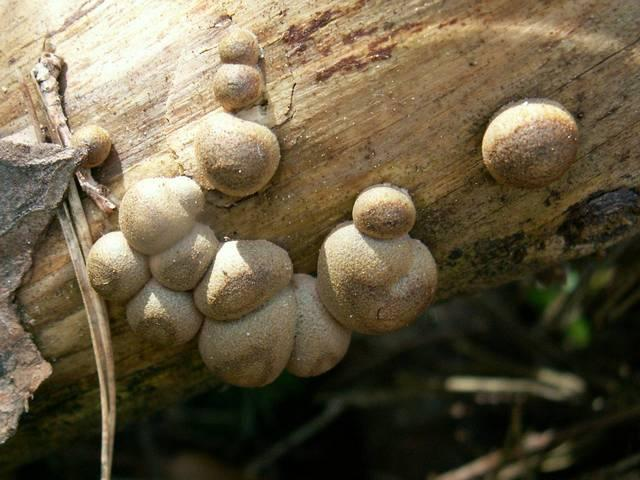Non-edible Mushroom: (83, 26, 439, 388), (315, 182, 438, 335), (480, 96, 579, 188), (193, 237, 293, 321), (191, 109, 281, 200), (117, 174, 205, 255), (85, 229, 149, 302), (351, 182, 416, 239), (212, 62, 263, 112), (68, 123, 112, 168), (217, 27, 261, 65)
